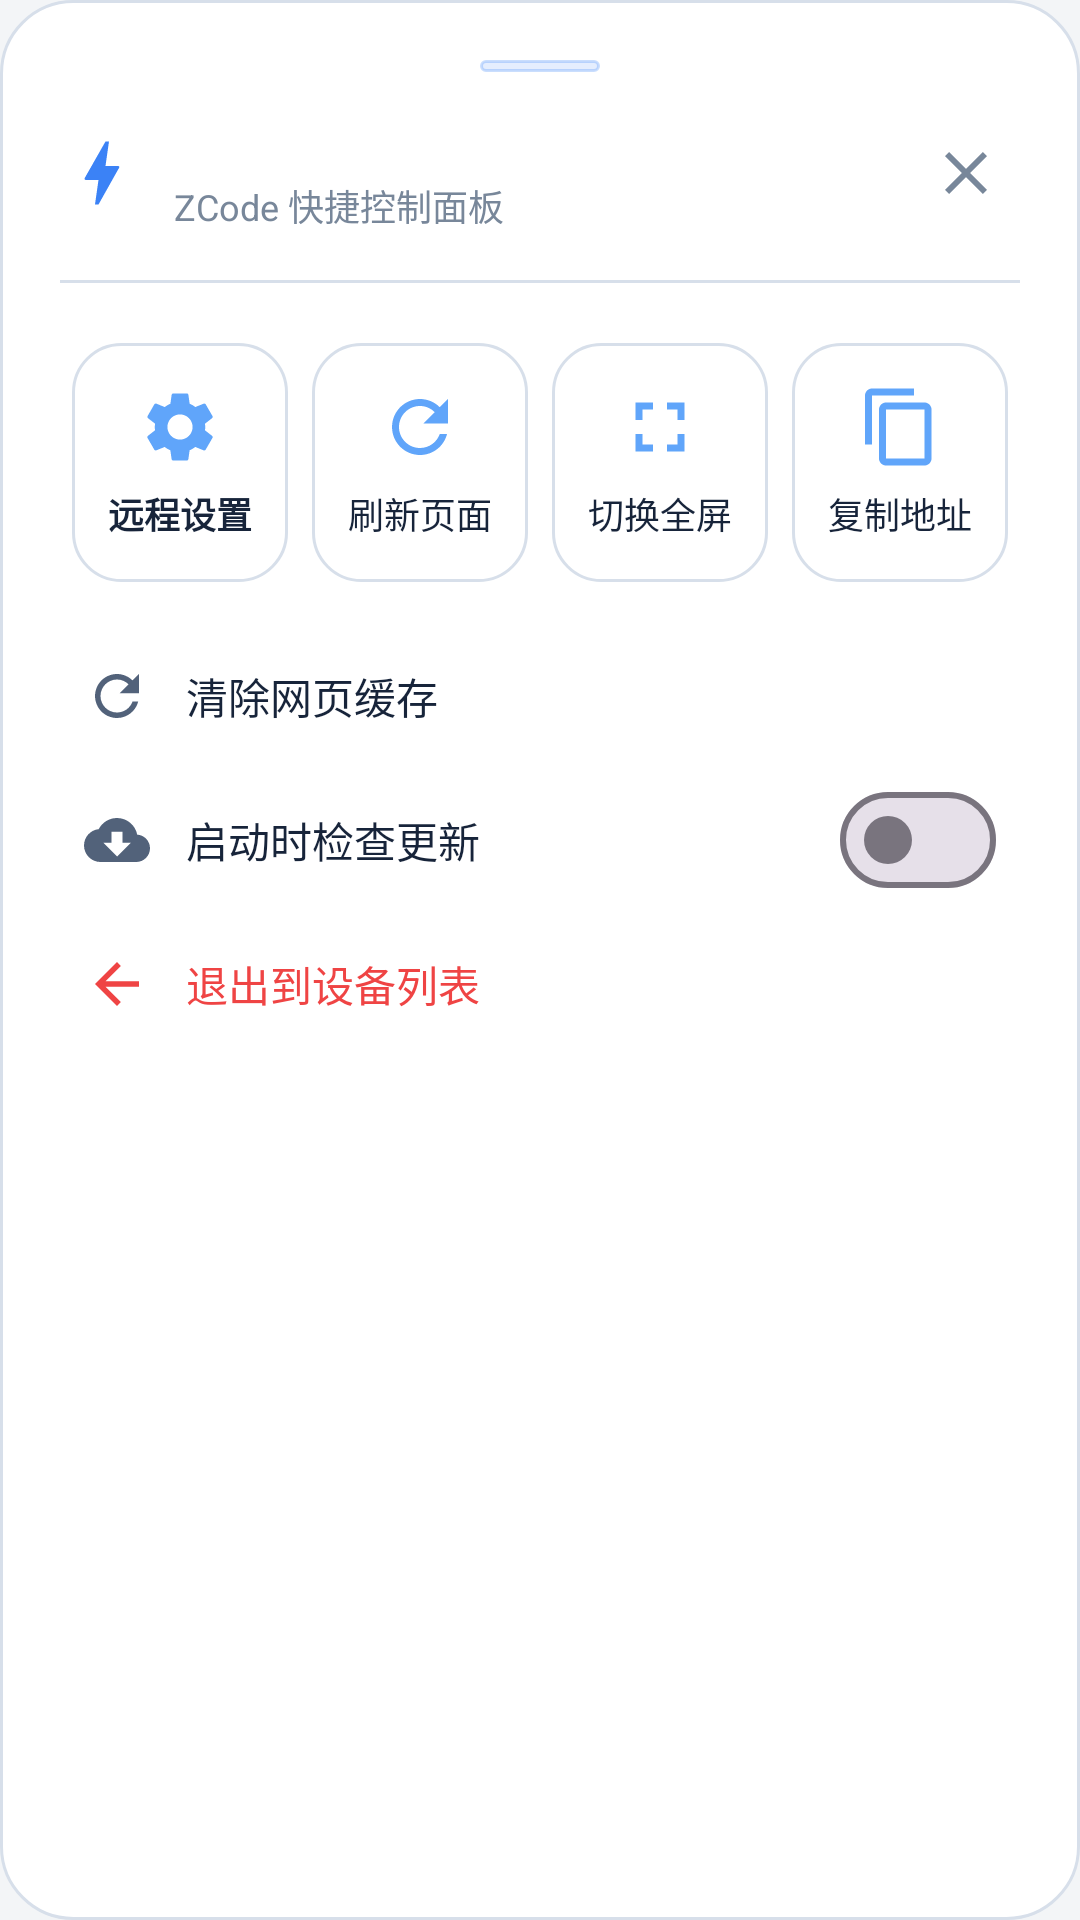

Icons on this 1080px x 1920px Android screen, each with its box as bbox=(x1, y1, x2, y2):
back: bbox=(95, 962, 139, 1006)
update: bbox=(84, 818, 150, 862)
关闭面板: bbox=(945, 152, 987, 194)
